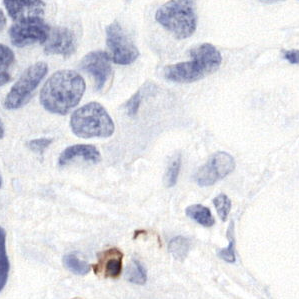Lymphocyte: (92, 247, 125, 276)
